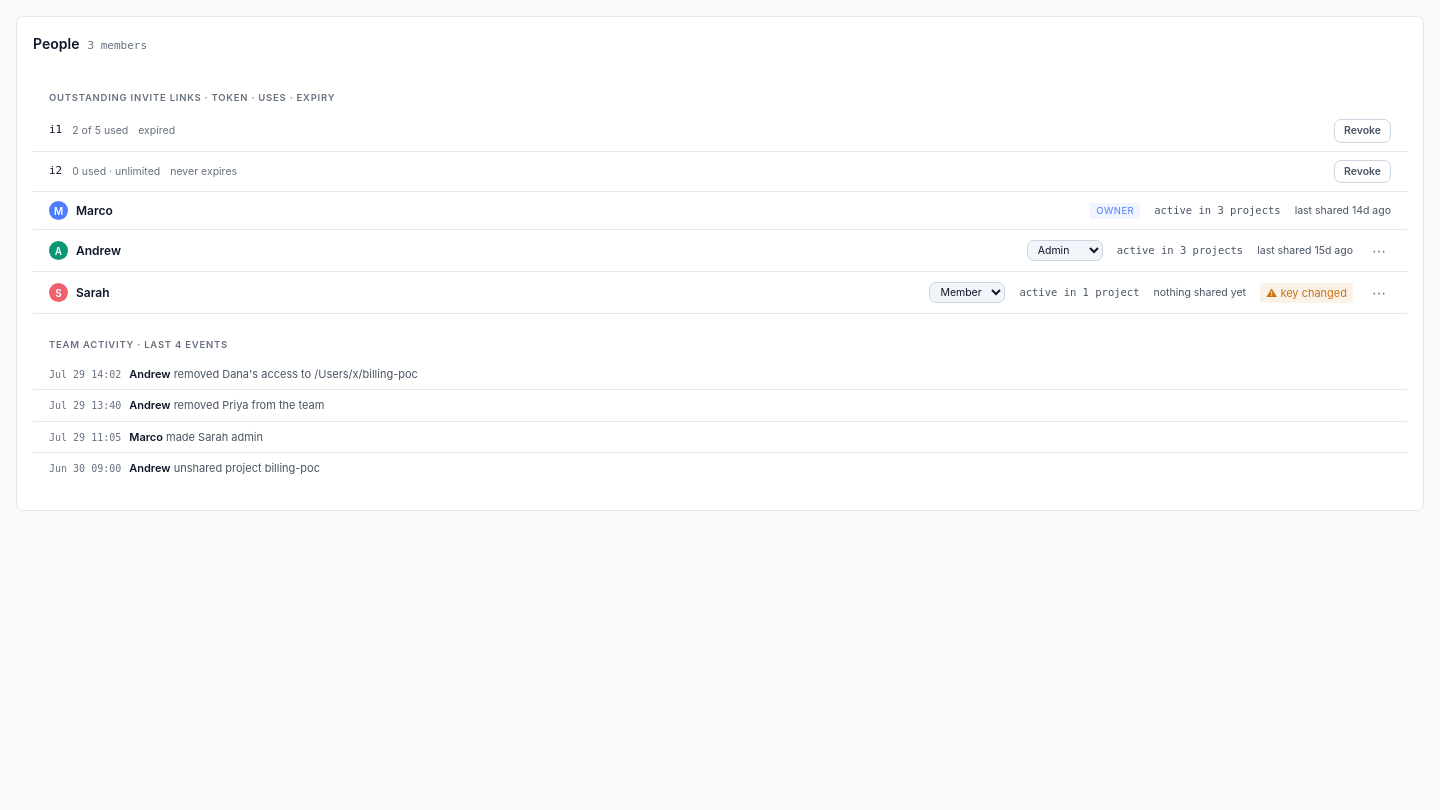
MembersSection (the People section of the Team page) › confirms before removing a member and says what removal does, honestly
Click the button named "more actions for Sarah". click: click(1379, 293)
box: left=1367, top=281, right=1391, bottom=304
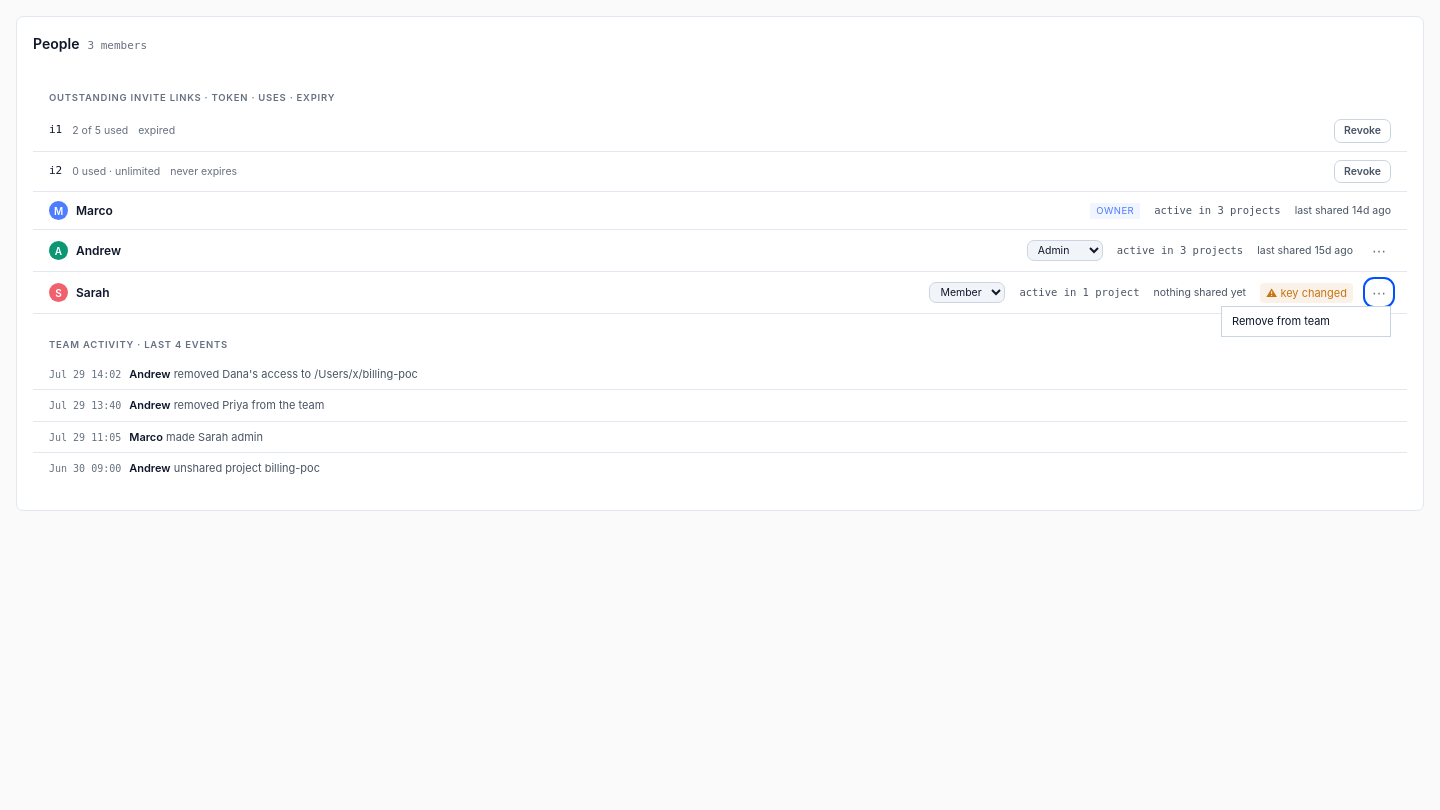
Click the menu item "Remove from team". click: click(1306, 322)
box: left=1222, top=307, right=1390, bottom=336
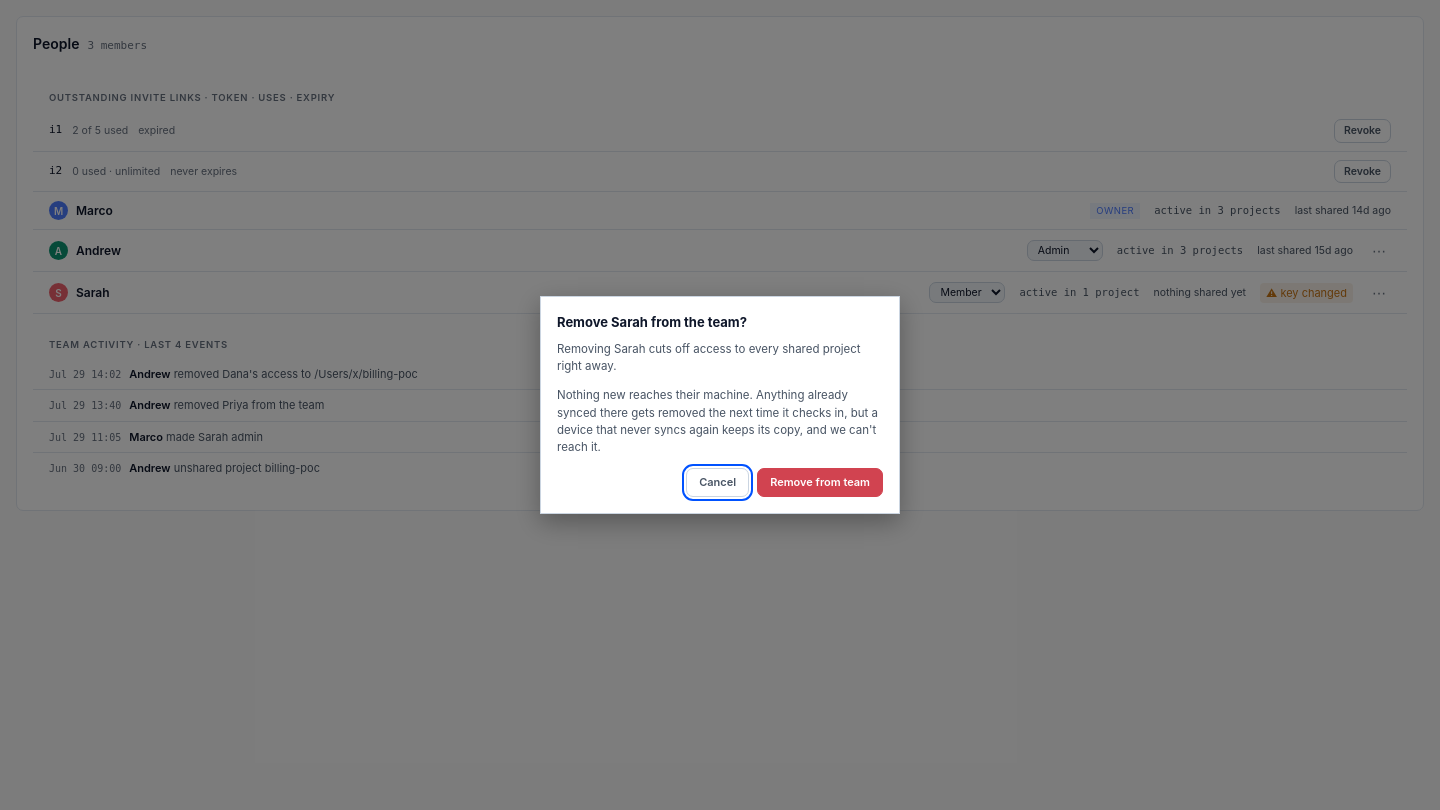
Expected: the dialog shows "Sarah", left=557, top=314, right=747, bottom=330
Expected: the dialog shows "cuts off access to every shared project", left=557, top=342, right=861, bottom=373
Expected: the dialog shows "right away", left=557, top=342, right=861, bottom=373
